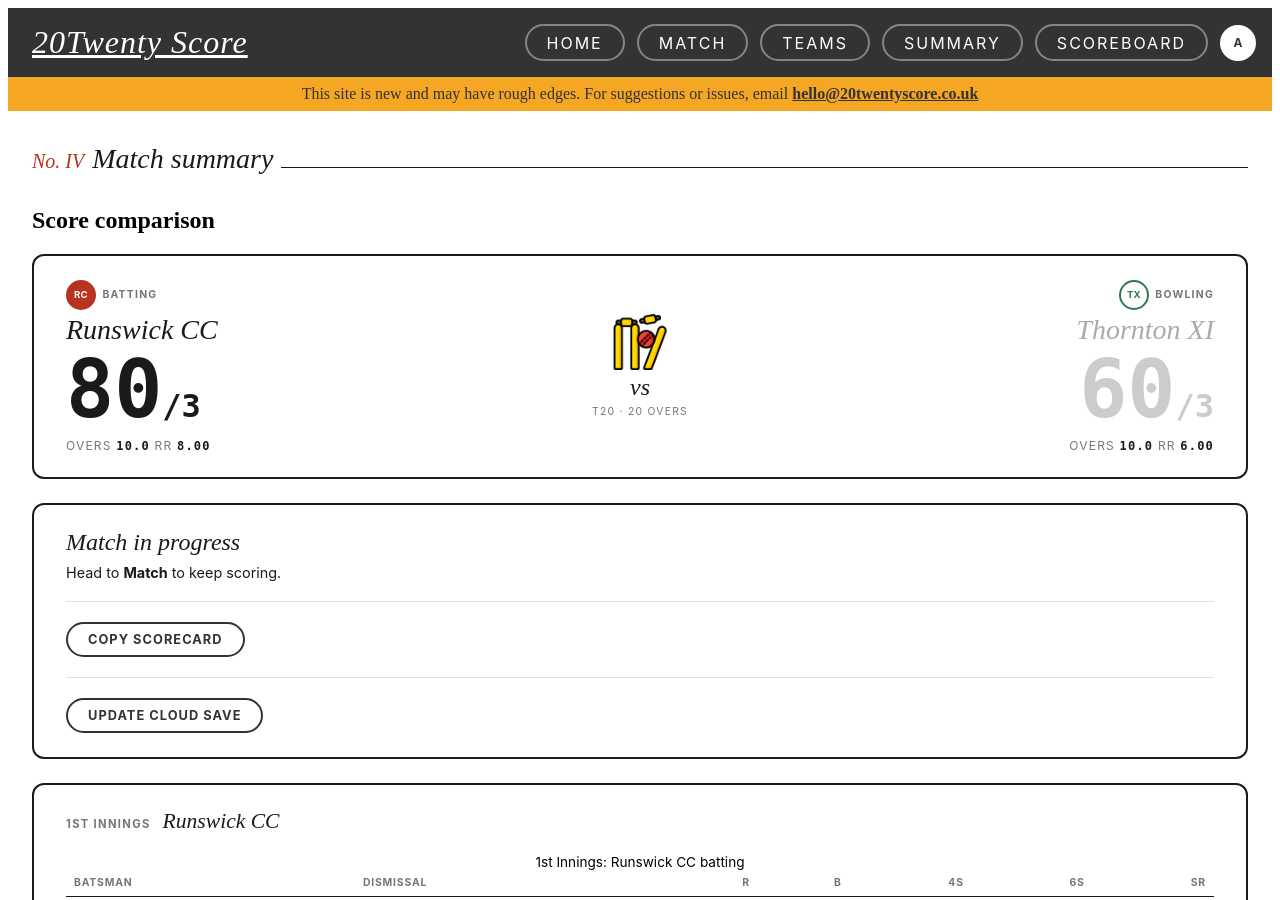
Test: SummaryPage › saveToCloud › updates an existing cloud save via PATCH when a cloudSaveId is already stored
The width and height of the screenshot is (1280, 900).
Click the button "Update cloud save" at (165, 715), box [66,698,263,733]
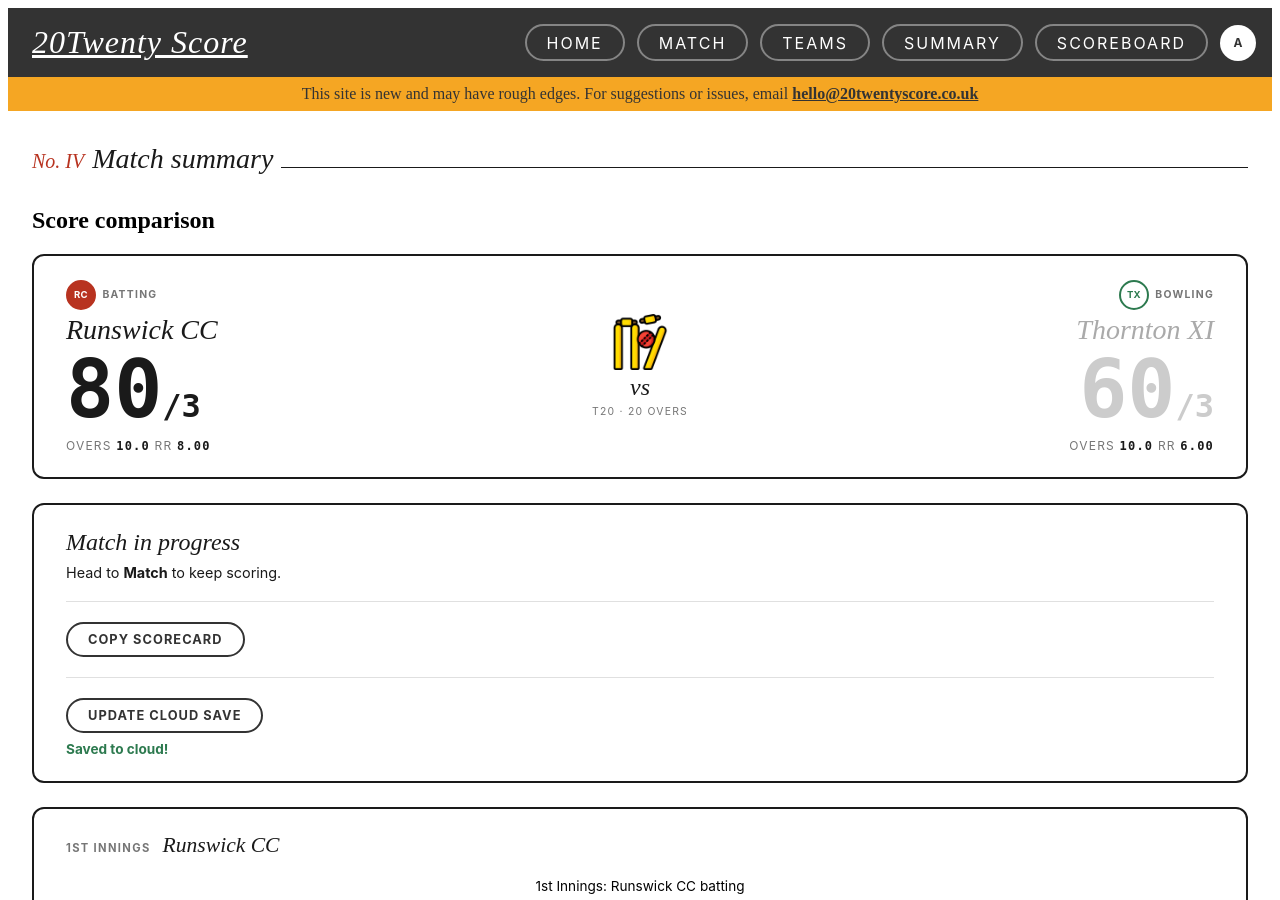
Expected: the text "Saved to cloud!" is shown, [66,741,168,757]
